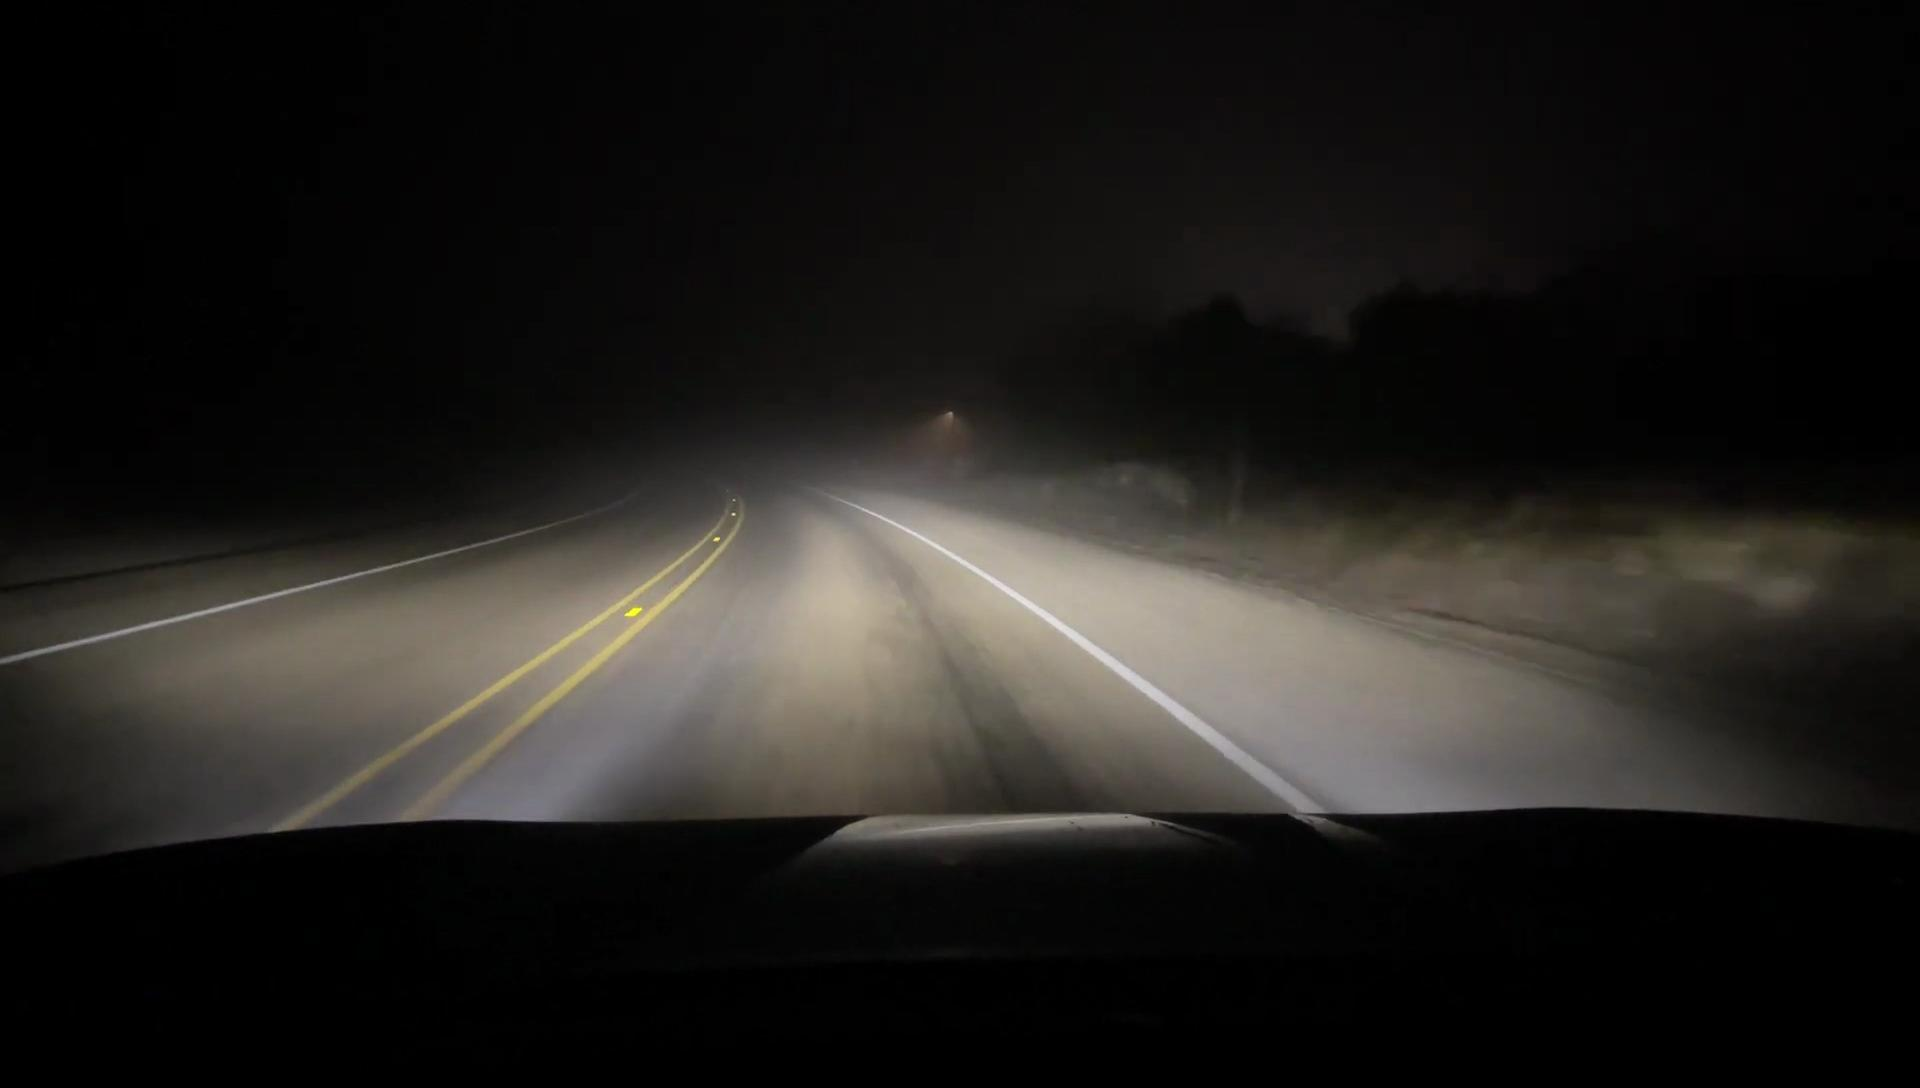road-lanes: (456, 505, 1298, 812)
